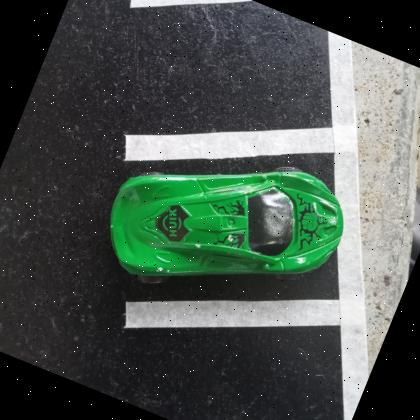Car: (110, 171, 343, 278)
